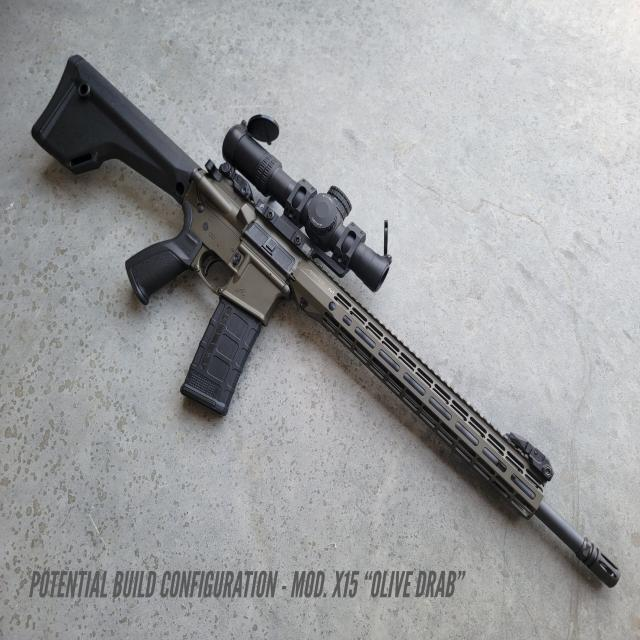Rifle: (31, 56, 620, 589)
